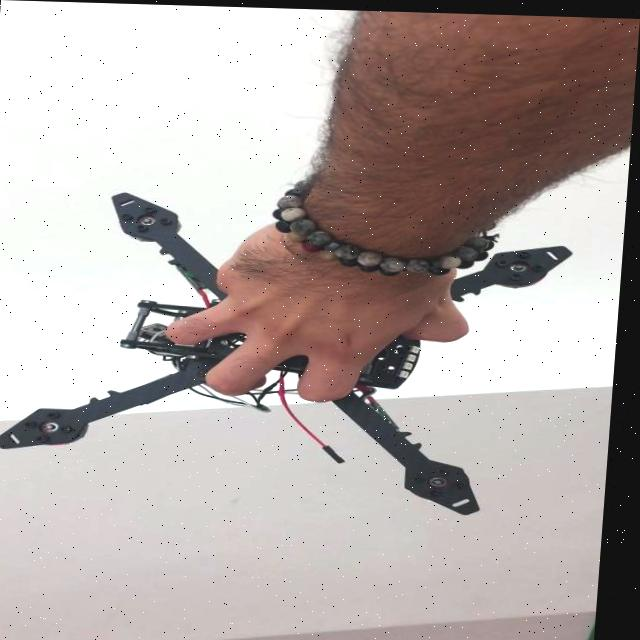drone: (1, 181, 567, 517)
